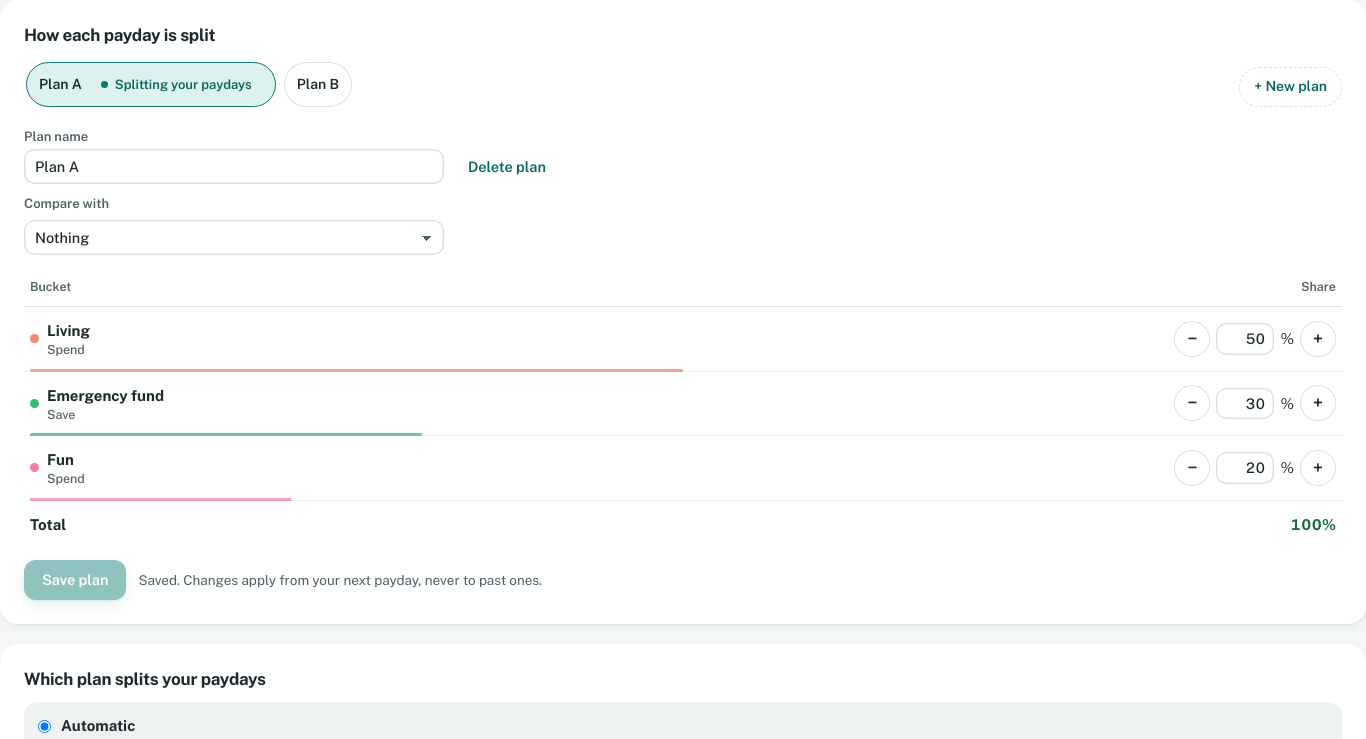
Test: plan bar and editor › a refused save keeps the draft, says the last saved plan is still used, and moves focus to the message
The image size is (1366, 739).
Replace the text in the field named "Living percent" with "40": (1245, 339) x1=1216 y1=323 x2=1274 y2=354
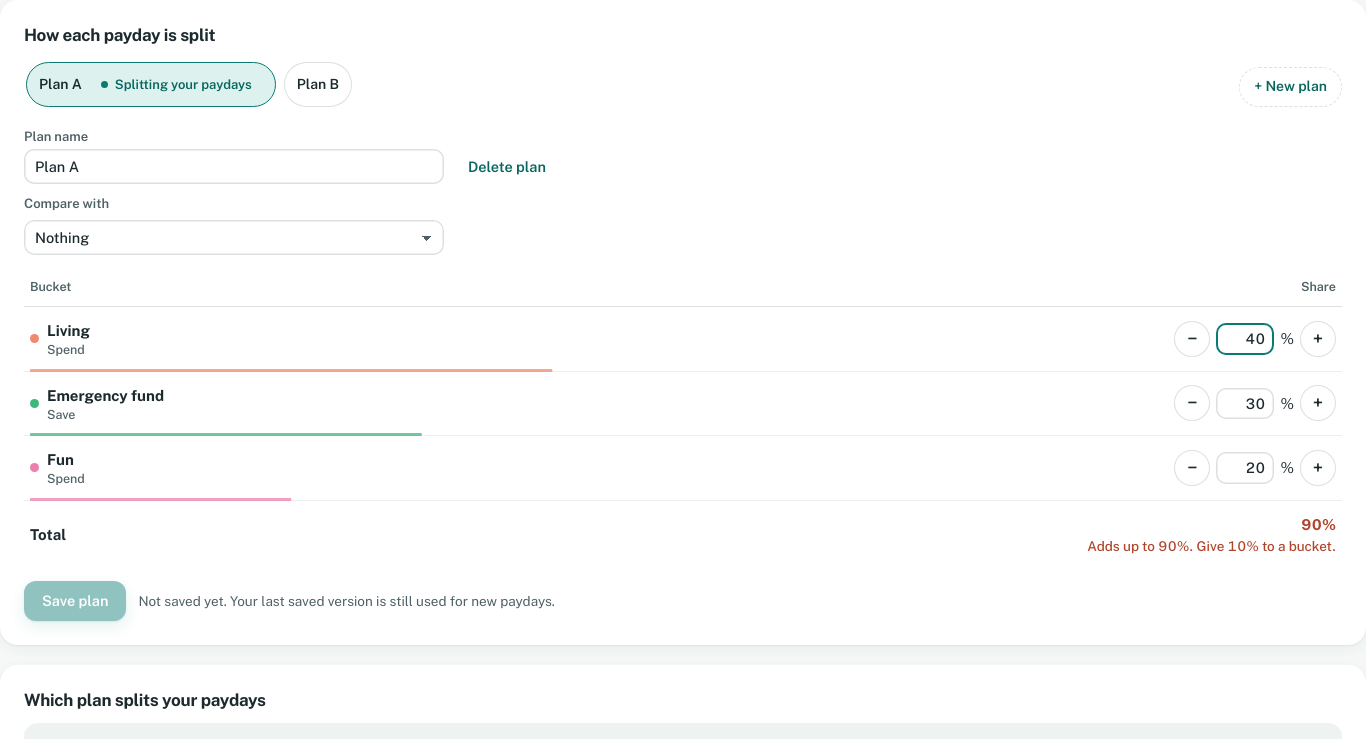
Replace the text in the field named "Fun percent" with "30": (1245, 468) x1=1216 y1=452 x2=1274 y2=484
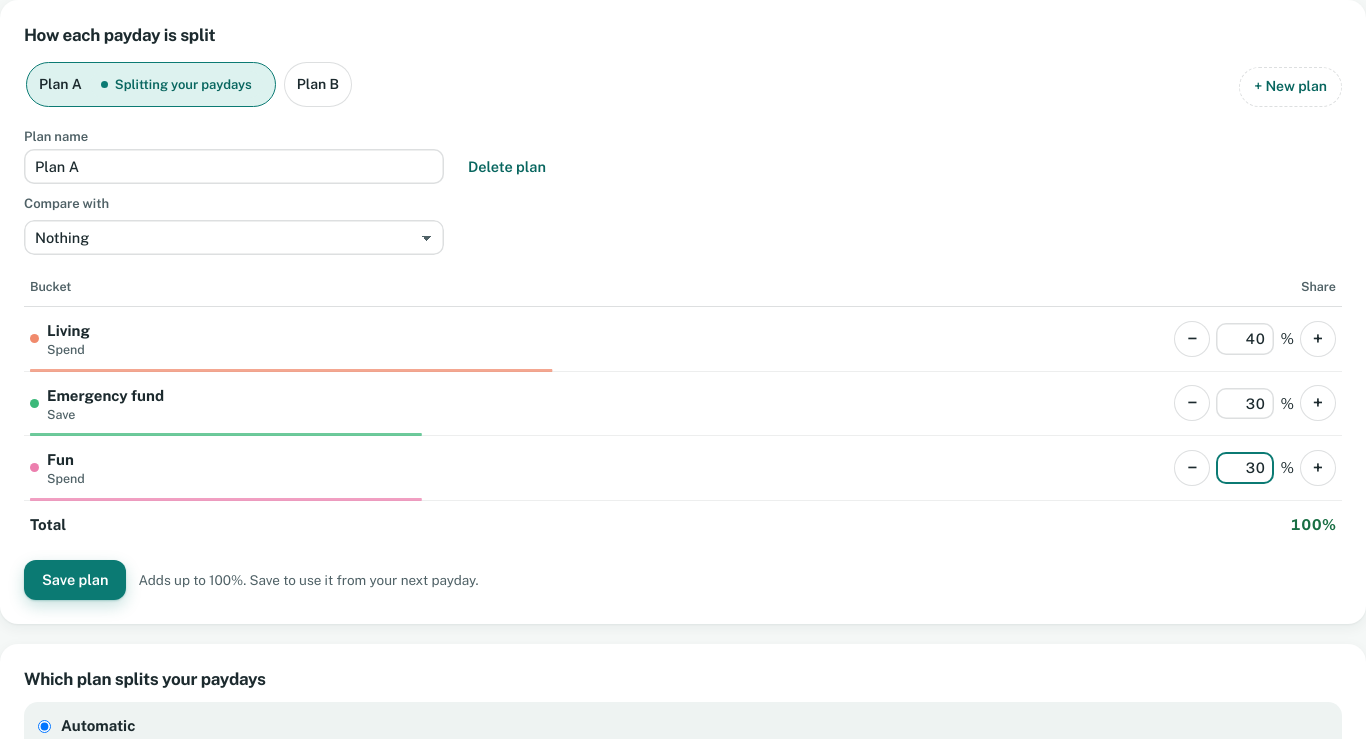
Click the button "Save plan": (75, 580) x1=24 y1=560 x2=126 y2=600
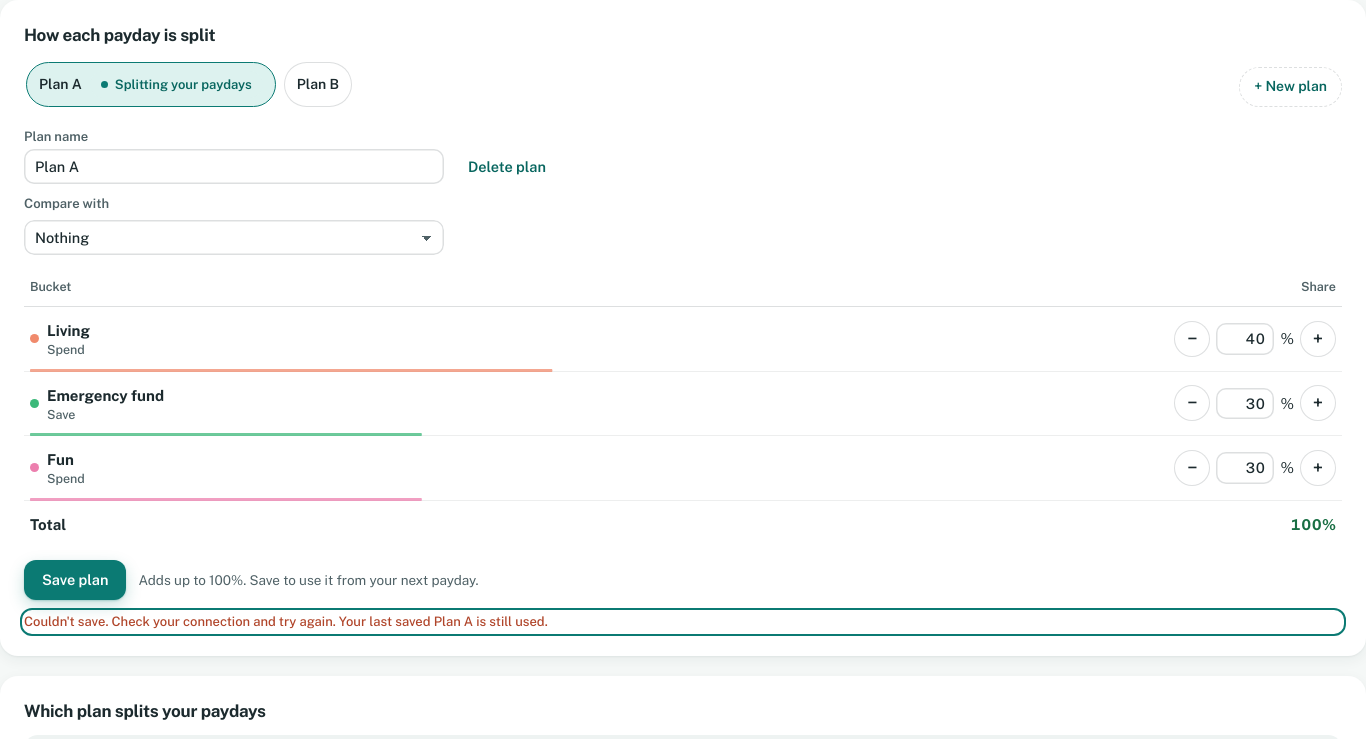
Expected: the message with test id "save-error" shows "Couldn't save. Check your connection and try again. Your last saved Plan A is still used.", x1=24 y1=614 x2=548 y2=629
